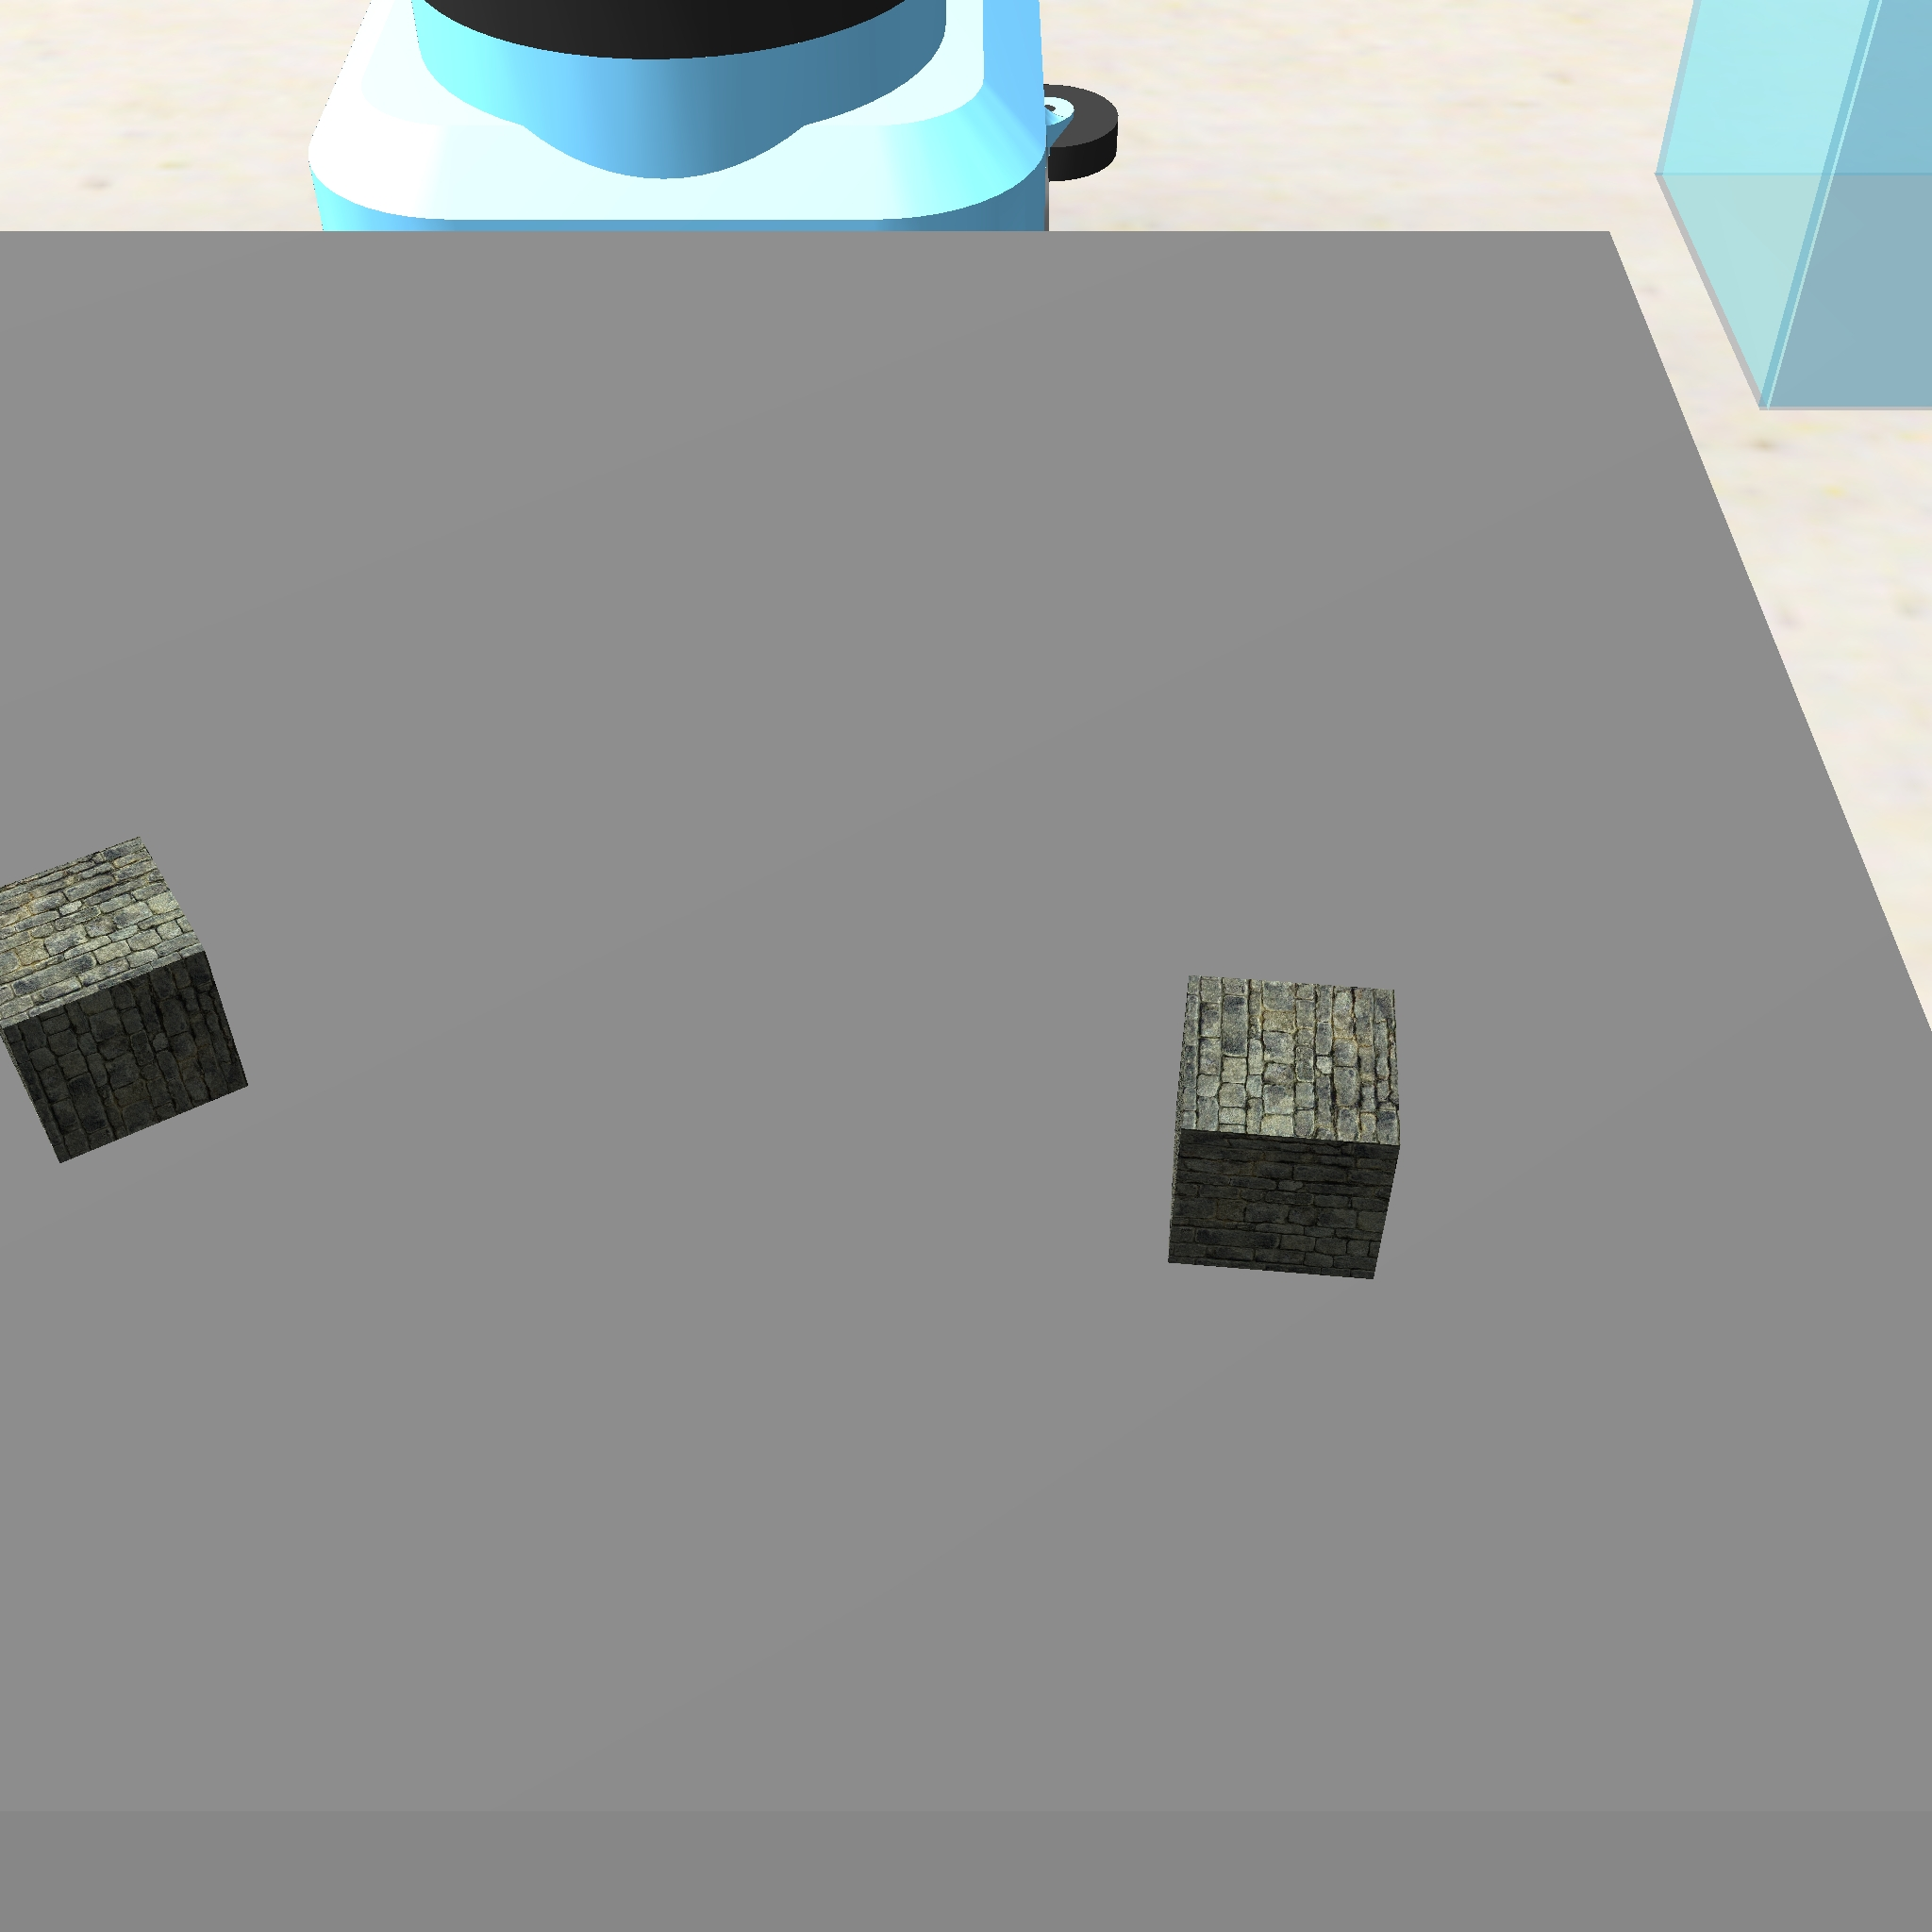cube: (0, 826, 257, 1171), (1159, 968, 1412, 1292)
